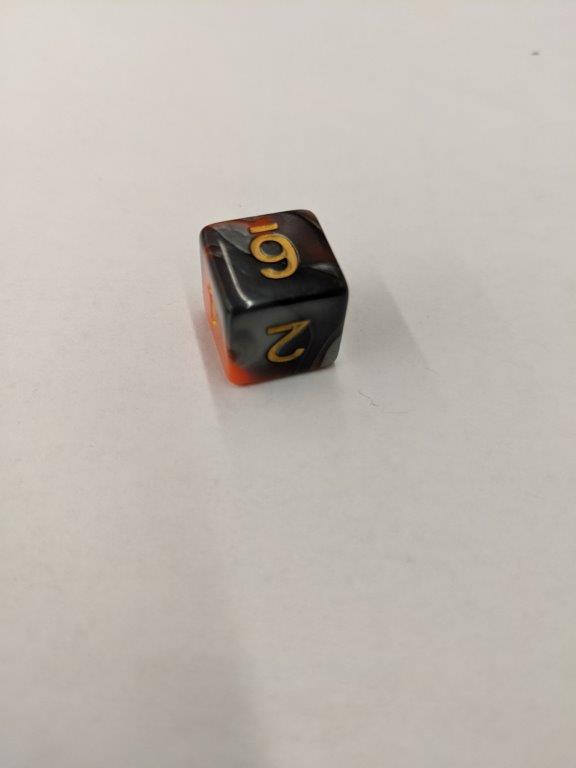d6-6: (197, 208, 349, 390)
